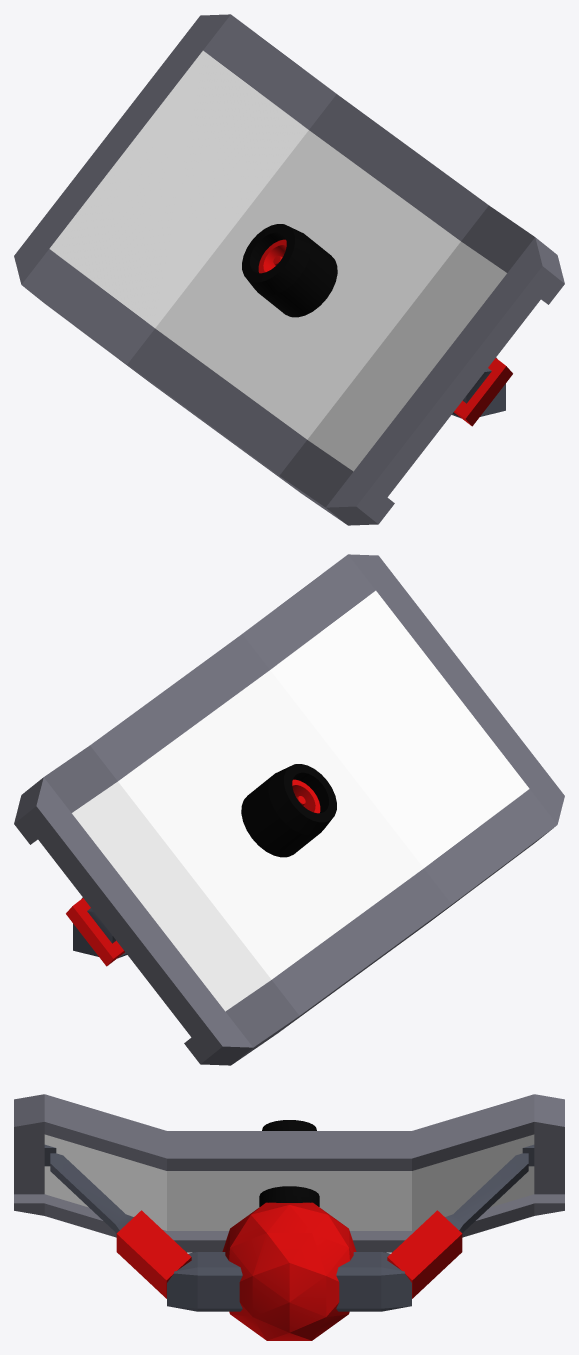
File: radarDish.fbx
3 renders of one model, top to bottom at view 1: azimuth 30°, elevation 25°; view 2: azimuth 150°, elevation 25°; view 3: azimuth 270°, elevation 25°, orthographic. The views are drawn at different scales.
Parts seen in each view (by area): view 1: roof_window_48, wheel_colored_47, landing_telescope%_53; view 2: roof_window_48, wheel_colored_47, landing_telescope%_50; view 3: roof_window_48, sphere_vertex_41, block_rounded_52, landing_telescope%_50, landing_telescope%_53, wheel_colored_47.
Part boxes in pixels (left/top/right/bottom): roof_window_48: left=14, top=14, right=564, bottom=525; wheel_colored_47: left=242, top=224, right=337, bottom=317; landing_telescope%_53: left=454, top=358, right=512, bottom=426; roof_window_48: left=14, top=554, right=564, bottom=1065; wheel_colored_47: left=241, top=764, right=336, bottom=857; landing_telescope%_50: left=66, top=898, right=124, bottom=966; roof_window_48: left=14, top=1094, right=564, bottom=1252; sphere_vertex_41: left=222, top=1202, right=356, bottom=1340; block_rounded_52: left=167, top=1252, right=411, bottom=1311; landing_telescope%_50: left=387, top=1144, right=534, bottom=1298; landing_telescope%_53: left=44, top=1144, right=191, bottom=1298; wheel_colored_47: left=259, top=1120, right=319, bottom=1206.
Bounding box in the file's own units: 10.98 × 10.98 × 22.5.
